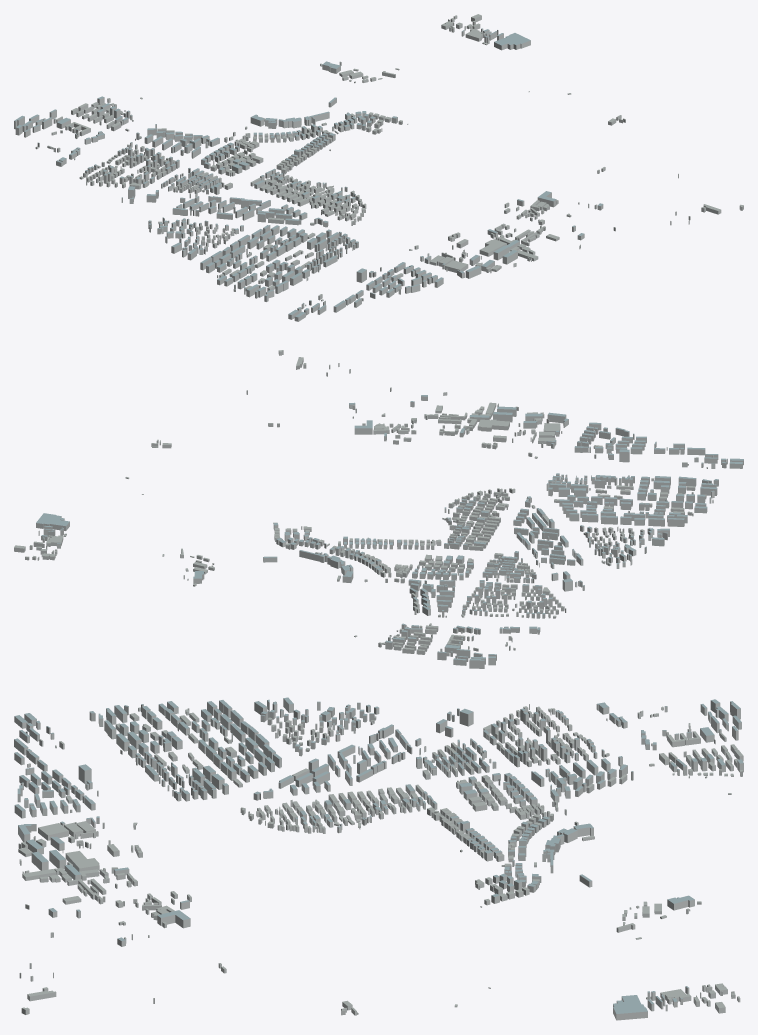
The model's file is far.glb.
3 views of the same model, one above another, from view 1: azimuth 30°, elevation 25°; view 2: azimuth 150°, elevation 25°; view 3: azimuth 270°, elevation 25° (orthographic). The views are drawn at different scales.
Size of the model in its own units: 2149 by 44.73 by 2109.
